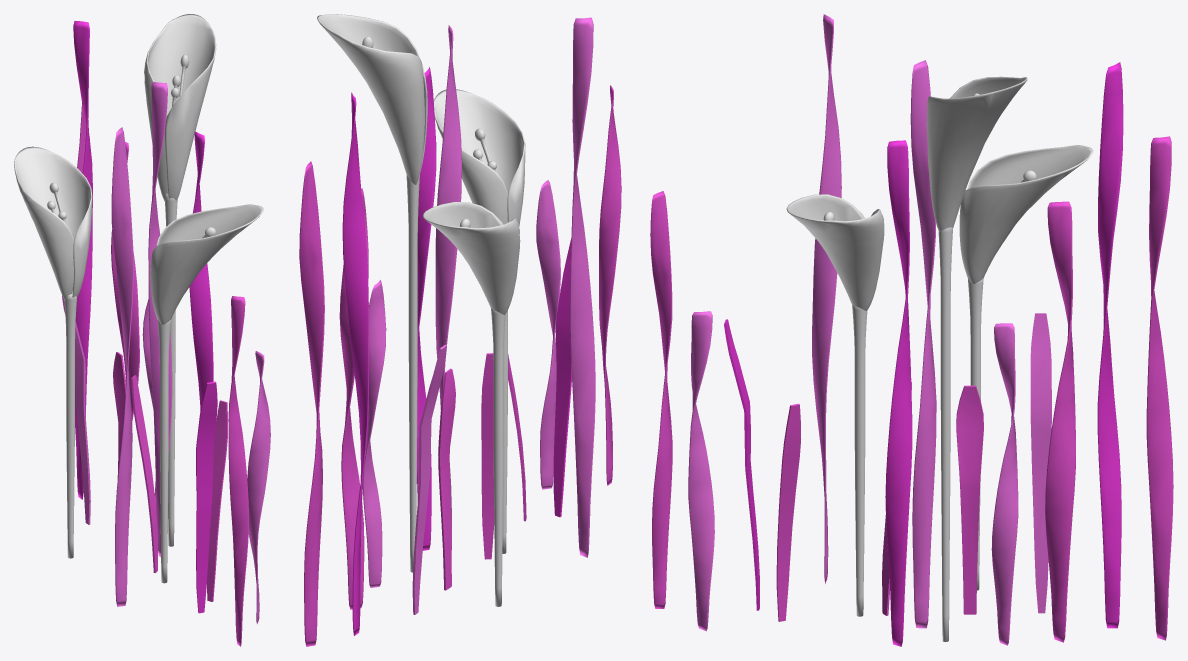
File: _See1-2.FBX
3 renders of one model, left to right at view 1: azimuth 30°, elevation 25°; view 2: azimuth 150°, elevation 25°; view 3: azimuth 270°, elevation 25°, orthographic. The views are drawn at different scales.
Parts seen in each view (by area): view 1: Plane003, Plane002, Plane026, Plane004, Plane019, Plane022, Plane025, Plane012, Plane011, Plane023, Cylinder002, Cylinder004 (+8 smaller); view 2: Plane026, Plane003, Plane004, Plane013, Plane012, Plane002, Plane022, Plane019, Plane011, Plane021, Plane024, Plane023 (+8 smaller); view 3: Plane012, Plane013, Plane022, Plane023, Plane024, Plane002, Plane003, Plane026, Plane004, Plane019, Plane011, Plane021 (+7 smaller).
Boxes of the visible parts, x1=… form: Plane003: x1=144, y1=14, x2=216, y2=201; Plane002: x1=14, y1=146, x2=92, y2=300; Plane026: x1=111, y1=127, x2=133, y2=606; Plane004: x1=150, y1=204, x2=263, y2=324; Plane019: x1=228, y1=296, x2=248, y2=646; Plane022: x1=148, y1=82, x2=172, y2=557; Plane025: x1=196, y1=381, x2=217, y2=613; Plane012: x1=73, y1=21, x2=92, y2=499; Plane011: x1=247, y1=351, x2=270, y2=624; Plane023: x1=189, y1=131, x2=213, y2=411; Cylinder002: x1=64, y1=290, x2=76, y2=558; Cylinder004: x1=157, y1=320, x2=170, y2=583; Plane026: x1=570, y1=17, x2=595, y2=557; Plane003: x1=317, y1=14, x2=427, y2=184; Plane004: x1=433, y1=89, x2=525, y2=226; Plane013: x1=299, y1=161, x2=324, y2=646; Plane012: x1=342, y1=92, x2=368, y2=635; Plane002: x1=423, y1=202, x2=520, y2=314; Plane022: x1=435, y1=25, x2=461, y2=549; Plane019: x1=599, y1=85, x2=621, y2=485; Plane011: x1=536, y1=180, x2=560, y2=489; Plane021: x1=363, y1=280, x2=386, y2=587; Plane024: x1=339, y1=188, x2=368, y2=609; Plane023: x1=417, y1=67, x2=436, y2=550; Plane012: x1=1097, y1=62, x2=1123, y2=628; Plane013: x1=1146, y1=136, x2=1173, y2=640; Plane022: x1=910, y1=60, x2=936, y2=628; Plane023: x1=885, y1=140, x2=912, y2=646; Plane024: x1=1045, y1=201, x2=1075, y2=642; Plane002: x1=959, y1=145, x2=1093, y2=283; Plane003: x1=926, y1=76, x2=1027, y2=231; Plane026: x1=812, y1=14, x2=841, y2=583; Plane004: x1=786, y1=194, x2=884, y2=310; Plane019: x1=650, y1=191, x2=672, y2=608; Plane011: x1=688, y1=311, x2=714, y2=631; Plane021: x1=991, y1=323, x2=1018, y2=645.
Size of the model in its own units: 49.36 by 134 by 108.
